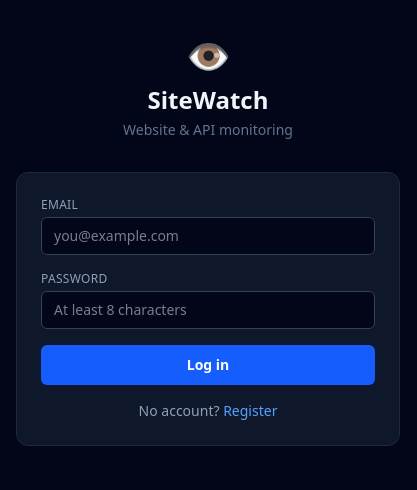
it: LoginPage › shows the server error on wrong credentials
Type "user@example.com" into the field labelled "Email" at (208, 236), box [41,217,375,255]
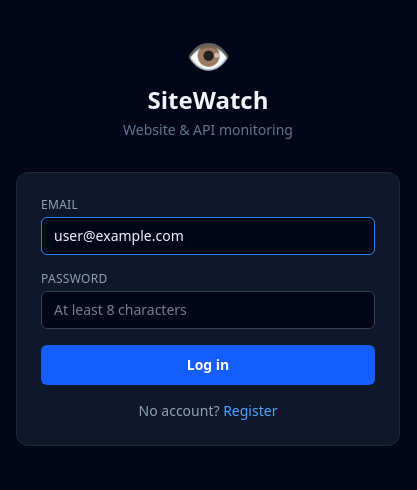
Type "wrong-password" into the password field labelled "Password" at (208, 310), box [41,291,375,329]
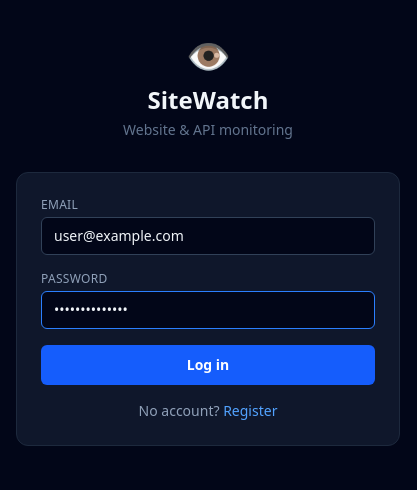
Click the button "Log in" at (208, 365), box [41,345,375,385]
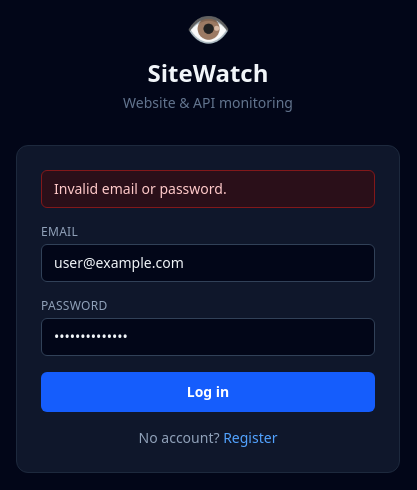
Expected: the message shows "Invalid email or password", [54,179,227,198]
